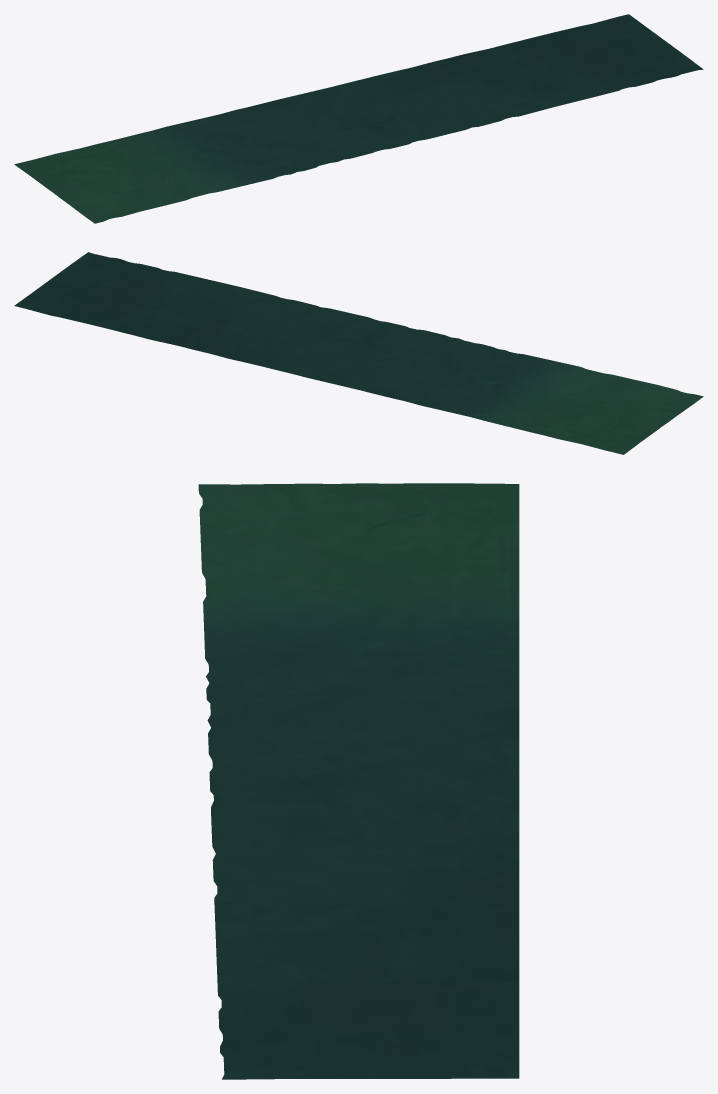
The picture shows the model from 3 angles, top to bottom: view 1: azimuth 30°, elevation 25°; view 2: azimuth 150°, elevation 25°; view 3: azimuth 270°, elevation 25°; orthographic projection. The views are drawn at different scales.
Bounding box in the file's own units: 418 × 0.9286 × 95.19.
Materials: 1 (1 with a texture image).
